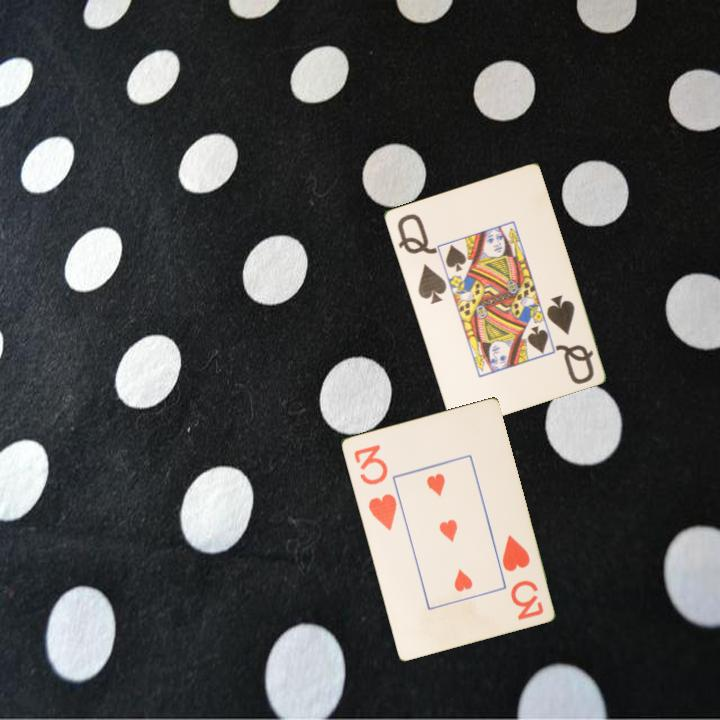3h: (350, 441, 399, 533), (498, 531, 546, 623)
Qs: (393, 210, 449, 307), (543, 291, 596, 387)
